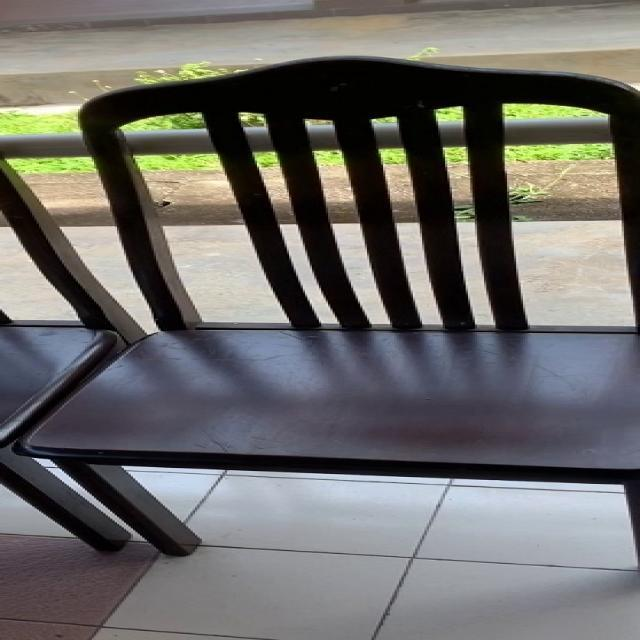chair: (20, 50, 640, 586)
